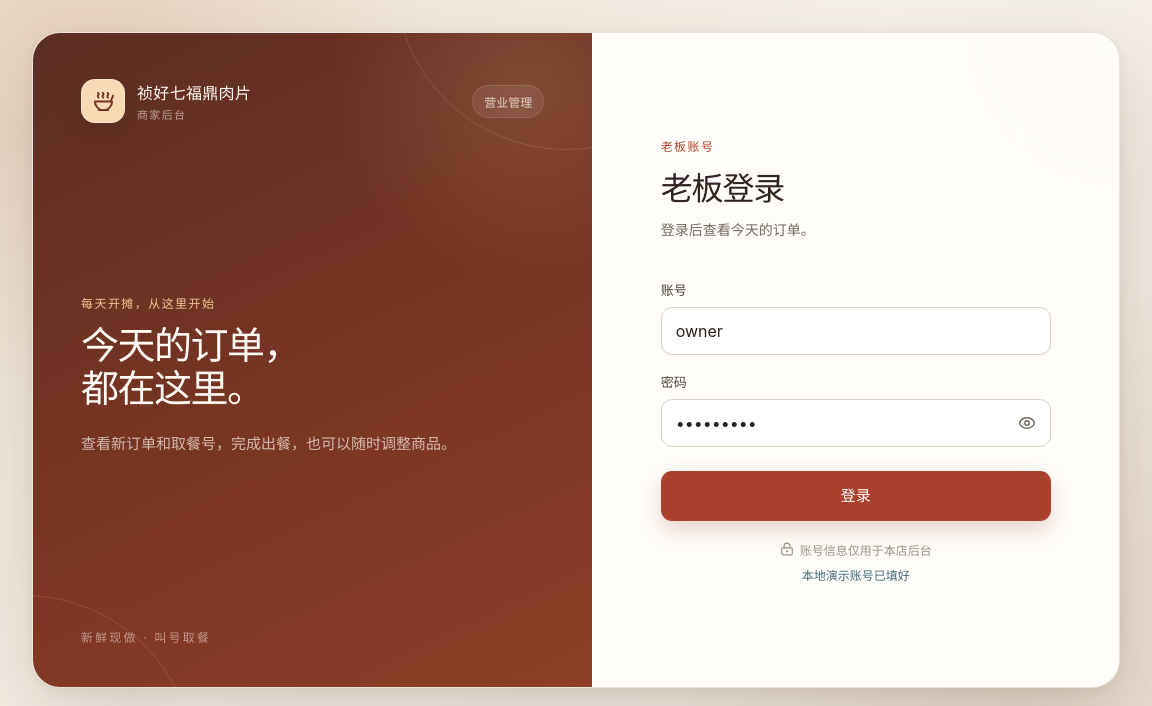
Test case: merchant V2 app › logs in with the only owner account and opens today's dashboard
Expected: the heading "老板登录" is shown, [661,170,784,208]
Expected: the text "祯好七福鼎肉片" is shown, [137,80,251,104]
Click the button "登录": (856, 496) [661,470,1051,520]
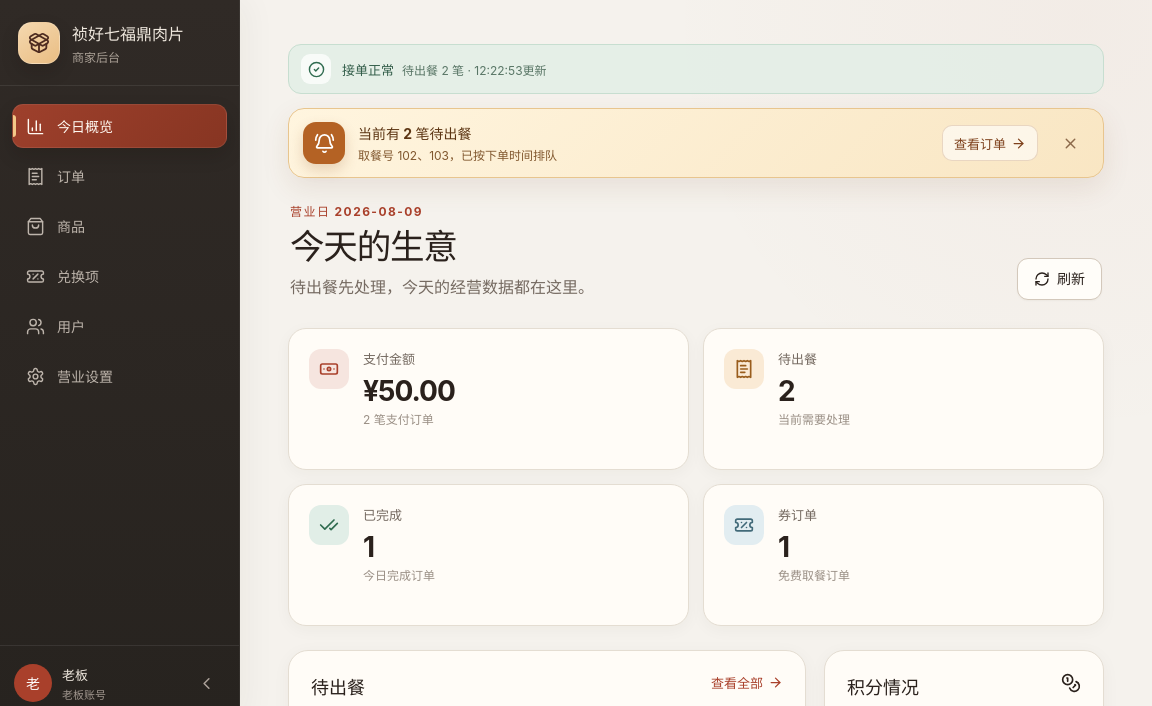
Expected: the heading "今天的生意" is shown, [290,226,457,267]
Expected: the text "支付金额" is shown, [363,350,415,366]
Expected: the text "当前有 2 笔待出餐" is shown, [358,125,472,142]
